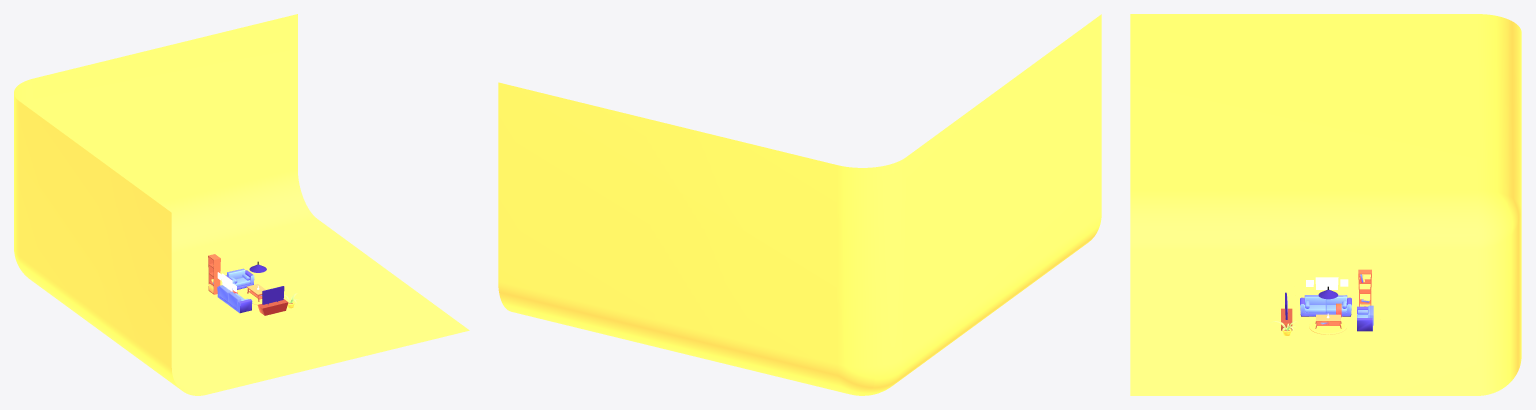
The model's file is Room_test_03-v1.glb.
3 views of the same model, side by side, from view 1: azimuth 30°, elevation 25°; view 2: azimuth 150°, elevation 25°; view 3: azimuth 270°, elevation 25° (orthographic). The views are drawn at different scales.
Parts seen in each view (by area): view 1: Plane, Couch, BookShelves, S_Couch; view 2: Plane; view 3: Plane, Couch, S_Couch, Paints, BookShelves.
Part boxes in pixels (bbox=[...]): Plane: bbox=[14, 14, 469, 395]; Couch: bbox=[217, 285, 252, 313]; BookShelves: bbox=[208, 254, 220, 294]; S_Couch: bbox=[225, 268, 254, 289]; Plane: bbox=[498, 14, 1101, 395]; Plane: bbox=[1130, 14, 1521, 395]; Couch: bbox=[1300, 295, 1351, 317]; S_Couch: bbox=[1357, 305, 1373, 331]; Paints: bbox=[1306, 277, 1348, 289]; BookShelves: bbox=[1358, 269, 1371, 306].
Size of the model in its own units: 24.09 by 14.81 by 24.09.
1 material, 1 textured.
